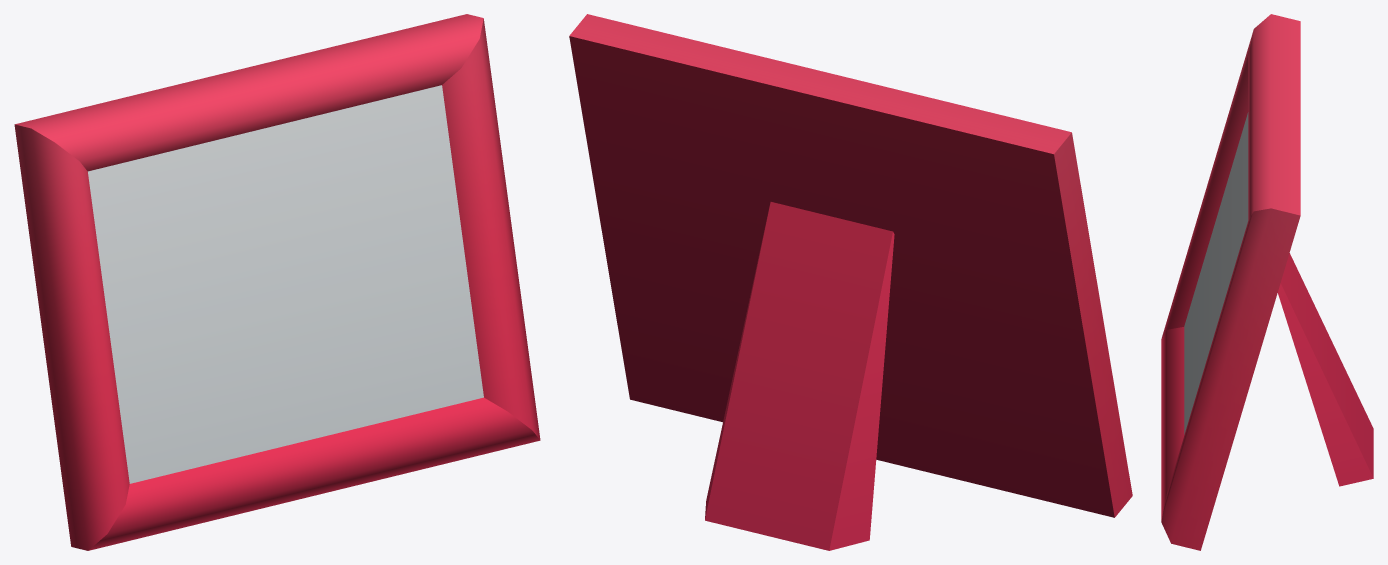
File: Frame_01.glb
3 renders of one model, left to right at view 1: azimuth 30°, elevation 25°; view 2: azimuth 150°, elevation 25°; view 3: azimuth 270°, elevation 25°, orthographic. The views are drawn at different scales.
Parts seen in each view (by area): view 1: Frame_01; view 2: Frame_01; view 3: Frame_01.
Boxes of the visible parts, x1,y1,x2,y2 form: Frame_01: [14, 14, 540, 550]; Frame_01: [569, 14, 1132, 550]; Frame_01: [1161, 14, 1373, 550].
Size of the model in its own units: 0.18 by 0.1479 by 0.0832.
Materials: 1 (1 with a texture image).
